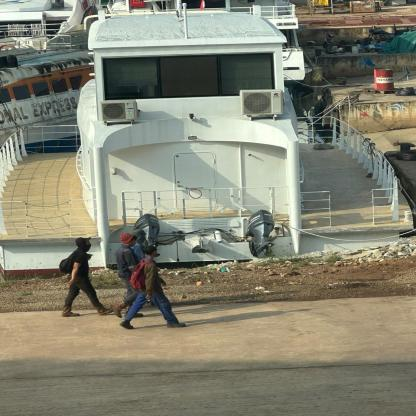bota: (60, 306, 82, 318), (92, 305, 114, 317), (117, 318, 136, 331), (112, 300, 127, 316), (164, 320, 188, 330)
